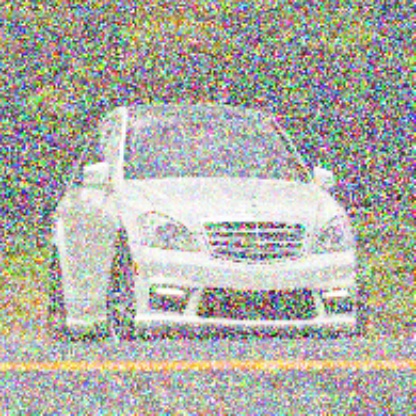Vehicle: (47, 101, 371, 347)
